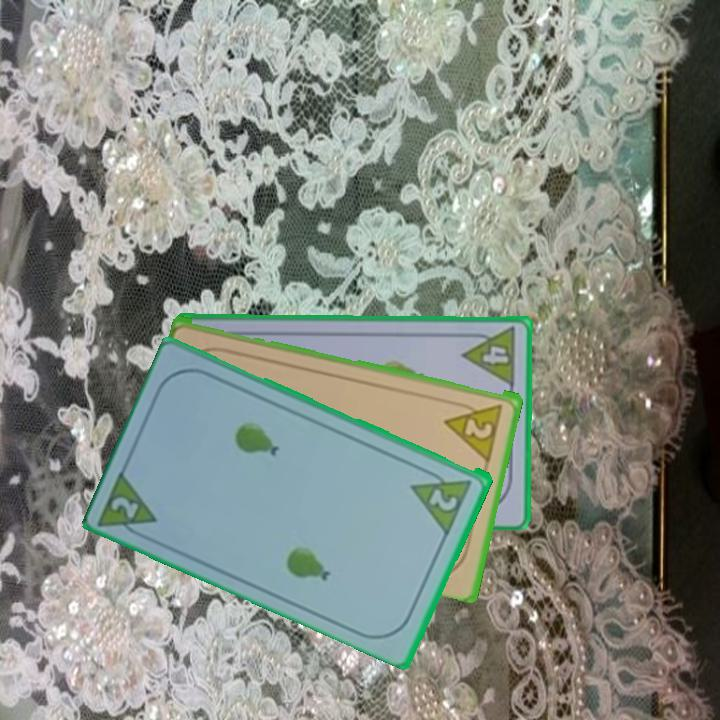2p: (96, 464, 161, 544), (408, 462, 476, 536), (442, 399, 506, 462)
4p: (459, 324, 520, 389)
